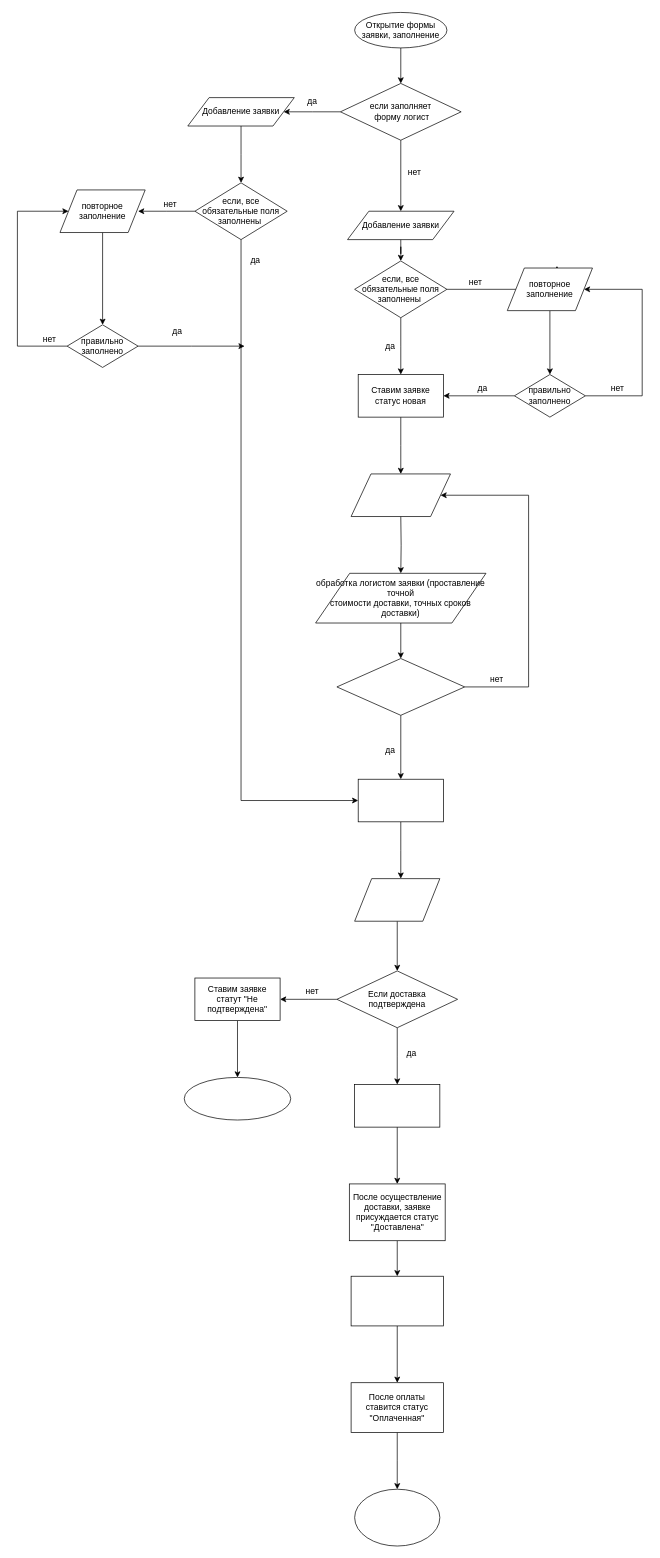
The diagram is 660 pixels wide and 1558 high, and some of its shapes have lost their labels. The centre of each missing label's shape, as x and y in pixels:
(Все заявки со статусом "Доставленные" отображаются у бухгалтерии ): (x=396, y=1301)
если заявка обработана: (x=400, y=686)
заявка ждет обработки: (x=400, y=495)
Заявка ждет подтверждение Осюшкина: (x=397, y=899)
Конец: (x=397, y=1517)
Конец программе: (x=237, y=1098)
Ставится статус "Ожидает подтверждения": (x=400, y=800)
ставится статус "Подтверждена": (x=397, y=1105)
